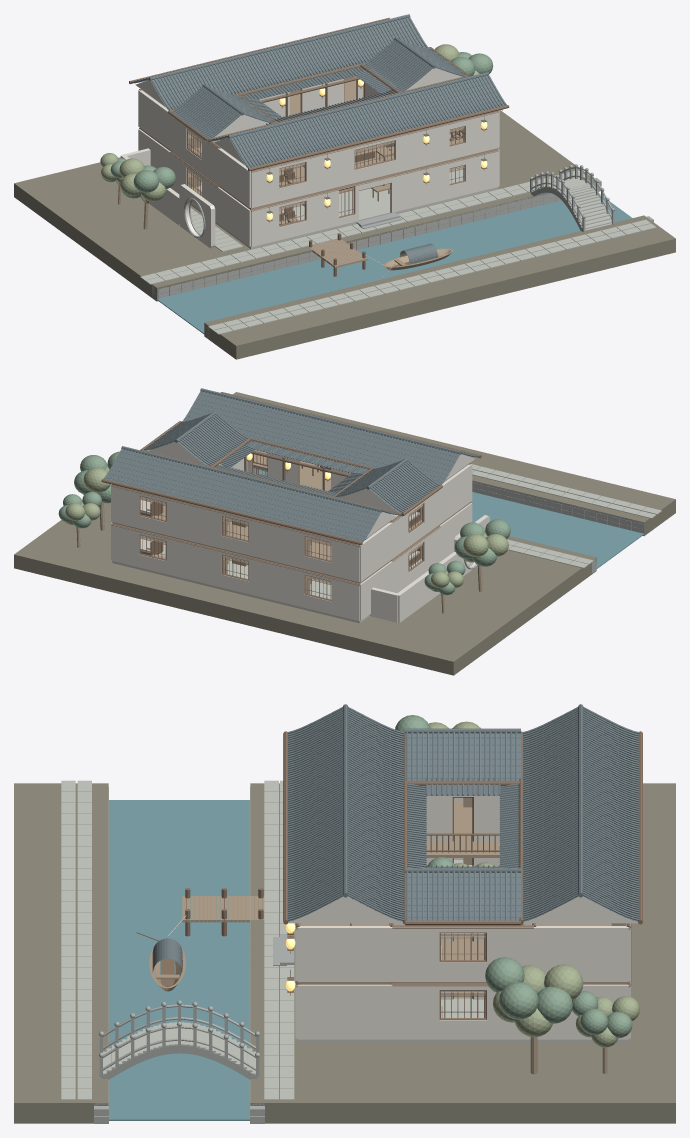
Rendered from scene_preview.glb.
The picture shows the model from 3 angles, top to bottom: view 1: azimuth 30°, elevation 25°; view 2: azimuth 150°, elevation 25°; view 3: azimuth 270°, elevation 25°; orthographic projection. The views are drawn at different scales.
Visible parts, largest first — view 1: site/north_bank_00000, site/south_bank_00001, site/canal_00002, roof/roof_substrate_01374, roof/roof_substrate_02773, ground/floor_slab_00273, upper/wall_00903, ground/wall_00451, upper/wall_00881, ground/wall_00325, upper/wall_00777, garden/moon_gate_wall_05048 (+26 smaller); view 2: site/north_bank_00000, roof/roof_substrate_03471, roof/roof_substrate_02072, site/south_bank_00001, site/canal_00002, ground/floor_slab_00274, upper/wall_00881, upper/wall_00903, garden/garden_enclosure_05193, upper/floor_slab_00725, roof/roof_substrate_04547, roof/roof_substrate_04172 (+34 smaller); view 3: site/north_bank_00000, site/canal_00002, site/south_bank_00001, ground/wall_00343, upper/wall_00795, upper/wall_00817, roof/roof_substrate_04733, roof/roof_substrate_04358, ground/wall_00344, upper/wall_00796, roof/gable_04171, roof/gable_02772 (+29 smaller).
Part boxes in pixels (box(x1,y1,x2,y2)): site/north_bank_00000: box(14, 110, 595, 301); site/south_bank_00001: box(204, 215, 675, 359); site/canal_00002: box(157, 197, 632, 334); roof/roof_substrate_01374: box(229, 75, 506, 168); roof/roof_substrate_02773: box(150, 17, 427, 110); ground/floor_slab_00273: box(219, 166, 498, 249); upper/wall_00903: box(217, 148, 250, 207); ground/wall_00451: box(217, 187, 250, 246); upper/wall_00881: box(138, 90, 170, 149); ground/wall_00325: box(416, 162, 449, 206); upper/wall_00777: box(416, 123, 449, 167); garden/moon_gate_wall_05048: box(179, 184, 215, 248); site/north_bank_00000: box(14, 503, 596, 675); roof/roof_substrate_03471: box(103, 449, 380, 542); roof/roof_substrate_02072: box(182, 391, 459, 484); site/south_bank_00001: box(233, 392, 675, 535); site/canal_00002: box(257, 468, 644, 568); ground/floor_slab_00274: box(112, 538, 369, 623); upper/wall_00881: box(359, 522, 392, 581); upper/wall_00903: box(440, 464, 472, 523); garden/garden_enclosure_05193: box(396, 552, 458, 622); upper/floor_slab_00725: box(112, 499, 391, 583); roof/roof_substrate_04547: box(177, 414, 246, 465); roof/roof_substrate_04172: box(369, 461, 438, 512); site/north_bank_00000: box(250, 783, 675, 1123); site/canal_00002: box(109, 800, 249, 1120); site/south_bank_00001: box(14, 783, 108, 1123); ground/wall_00343: box(297, 984, 392, 1039); upper/wall_00795: box(297, 926, 392, 981); upper/wall_00817: box(534, 926, 628, 981); roof/roof_substrate_04733: box(405, 872, 520, 920); roof/roof_substrate_04358: box(405, 733, 520, 780); ground/wall_00344: box(392, 985, 439, 1039); upper/wall_00796: box(392, 927, 439, 981); roof/gable_04171: box(523, 896, 637, 923); roof/gable_02772: box(288, 896, 402, 923).
Bounding box in the file's own units: 32.49 × 8.41 × 28.
